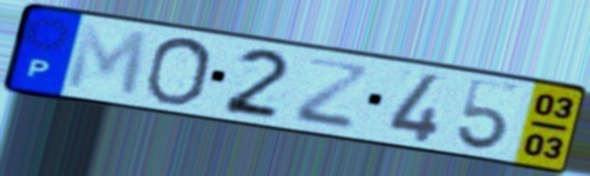2: (222, 46, 294, 123)
4: (387, 70, 445, 145)
5: (453, 75, 530, 154)
M: (63, 20, 152, 101)
O: (141, 36, 216, 107)
Z: (289, 54, 373, 133)
